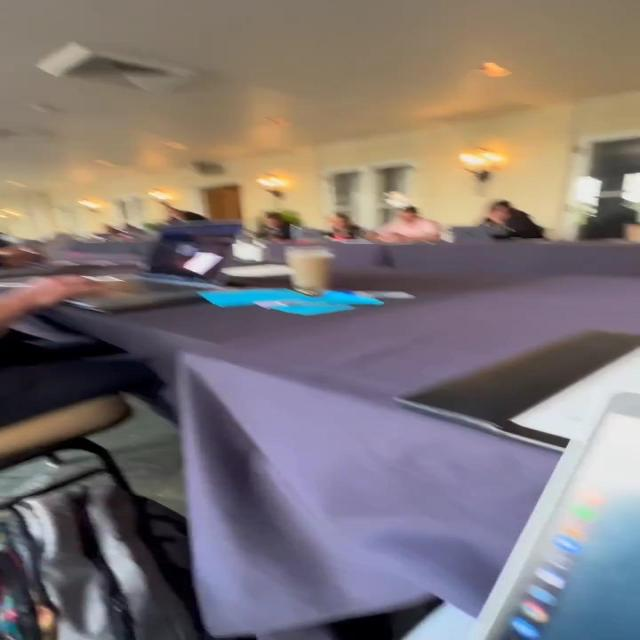NO-Mask: (492, 206, 508, 220), (330, 217, 346, 229), (400, 210, 413, 223), (264, 218, 279, 228), (169, 210, 180, 218)
